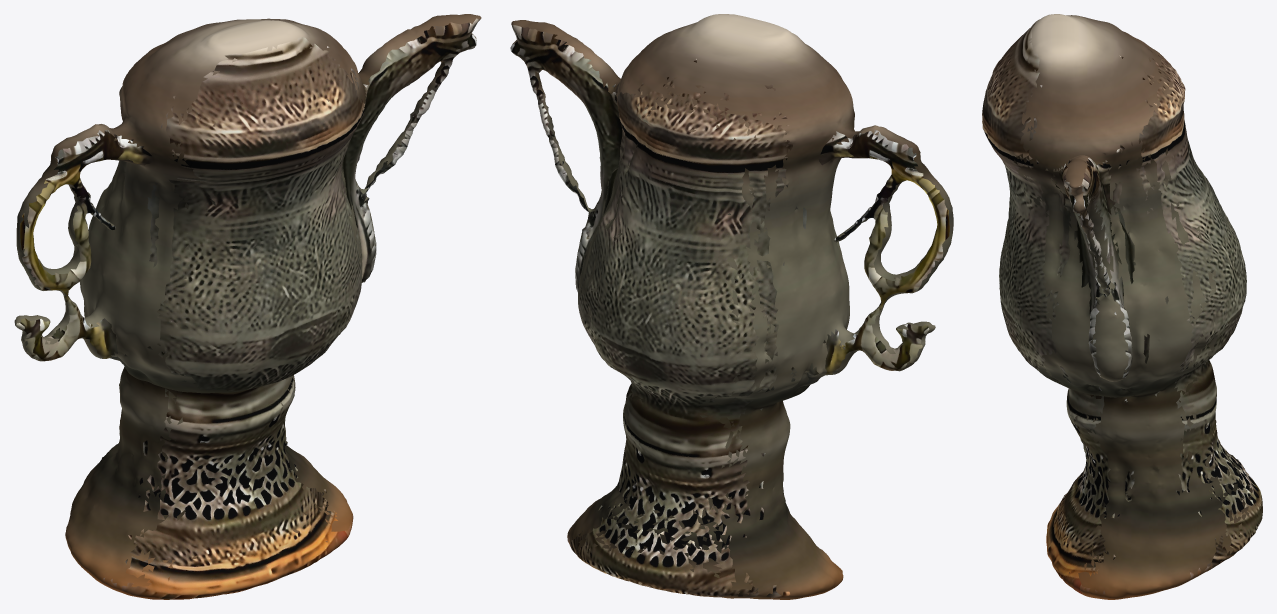
File: kfl-2317.glb
The picture shows the model from 3 angles, left to right: view 1: azimuth 30°, elevation 25°; view 2: azimuth 150°, elevation 25°; view 3: azimuth 270°, elevation 25°; orthographic projection. The views are drawn at different scales.
Parts seen in each view (by area): view 1: kfl-2317; view 2: kfl-2317; view 3: kfl-2317.
Boxes of the visible parts, <box> form: kfl-2317: <box>14,14,481,599</box>; kfl-2317: <box>510,14,953,599</box>; kfl-2317: <box>982,14,1262,599</box>.
Size of the model in its own units: 0.8684 by 0.9978 by 0.4821.
Materials: 4 (4 with a texture image).
